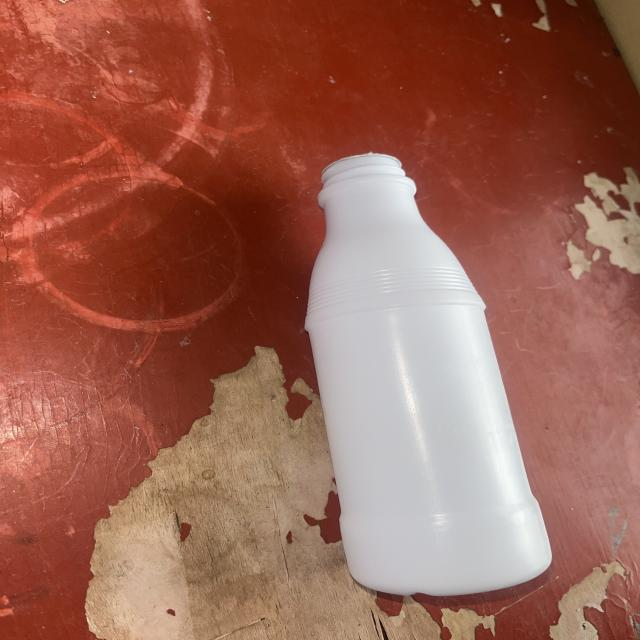HDPE_Bottle: (306, 154, 551, 595)
